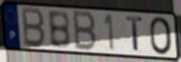1: (103, 14, 116, 53)
B: (21, 6, 47, 50), (72, 9, 98, 53), (46, 10, 72, 50)
O: (148, 15, 174, 56)
T: (125, 15, 145, 54)
